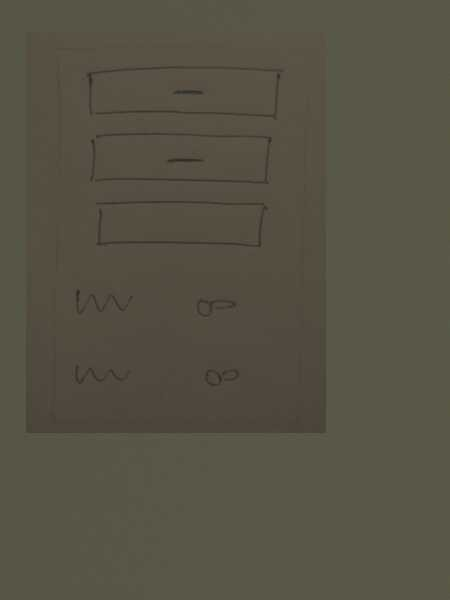button: (82, 61, 285, 124), (82, 129, 277, 193)
switch: (186, 288, 243, 324), (196, 358, 251, 394)
text: (68, 281, 136, 324), (68, 353, 135, 392)
text_input: (90, 197, 271, 253)
